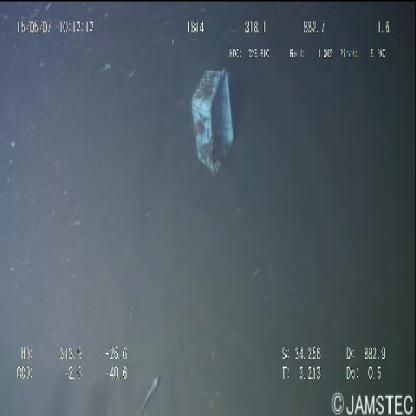Rác: (190, 68, 235, 174)
